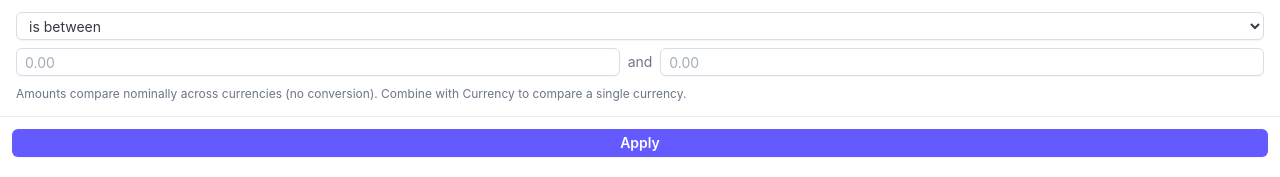
Test: filter panels › validates amount ranges and converts to minor units
Later steps or results of the test are not shown.
In the field named "Minimum amount": (318, 62) 16,48 -> 620,76, type "50"
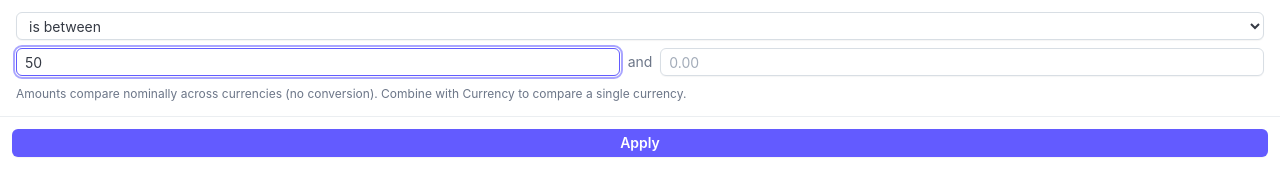
In the field named "Maximum amount": (962, 62) 660,48 -> 1264,76, type "10.5"
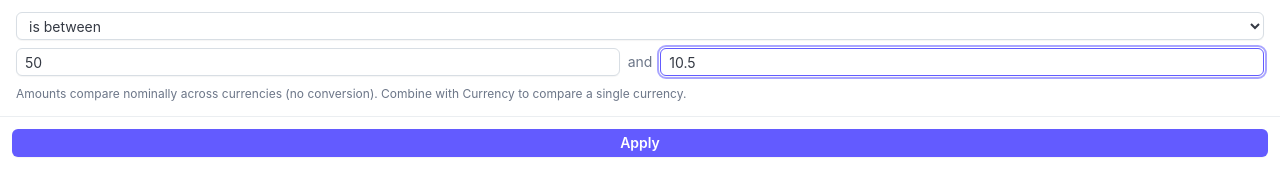
Click the button "Apply": (640, 143) 12,129 -> 1268,157
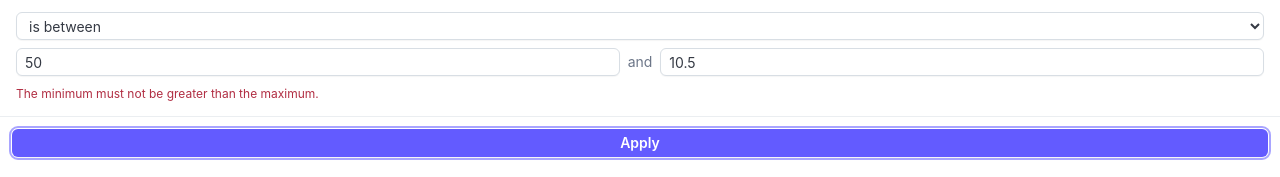
Check: the message shows "must not be greater", box 16,86 -> 319,101
